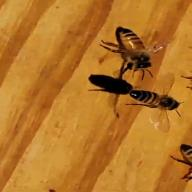Bee: (95, 25, 173, 76), (116, 85, 190, 114)
